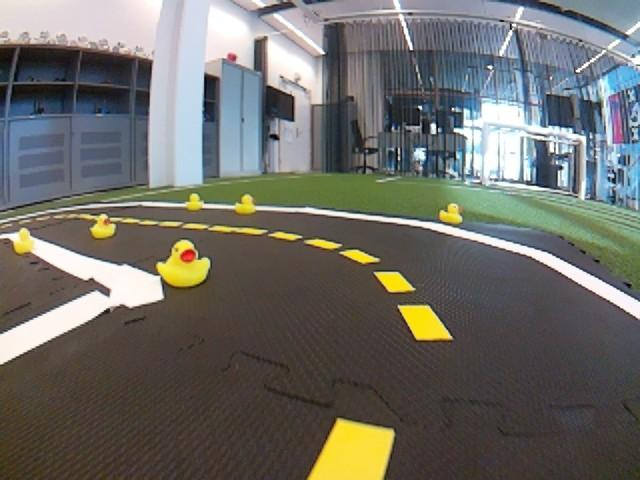Duckies: (156, 239, 210, 288), (90, 214, 117, 239), (13, 228, 36, 255), (234, 194, 258, 214), (439, 204, 463, 224), (185, 194, 203, 210)
